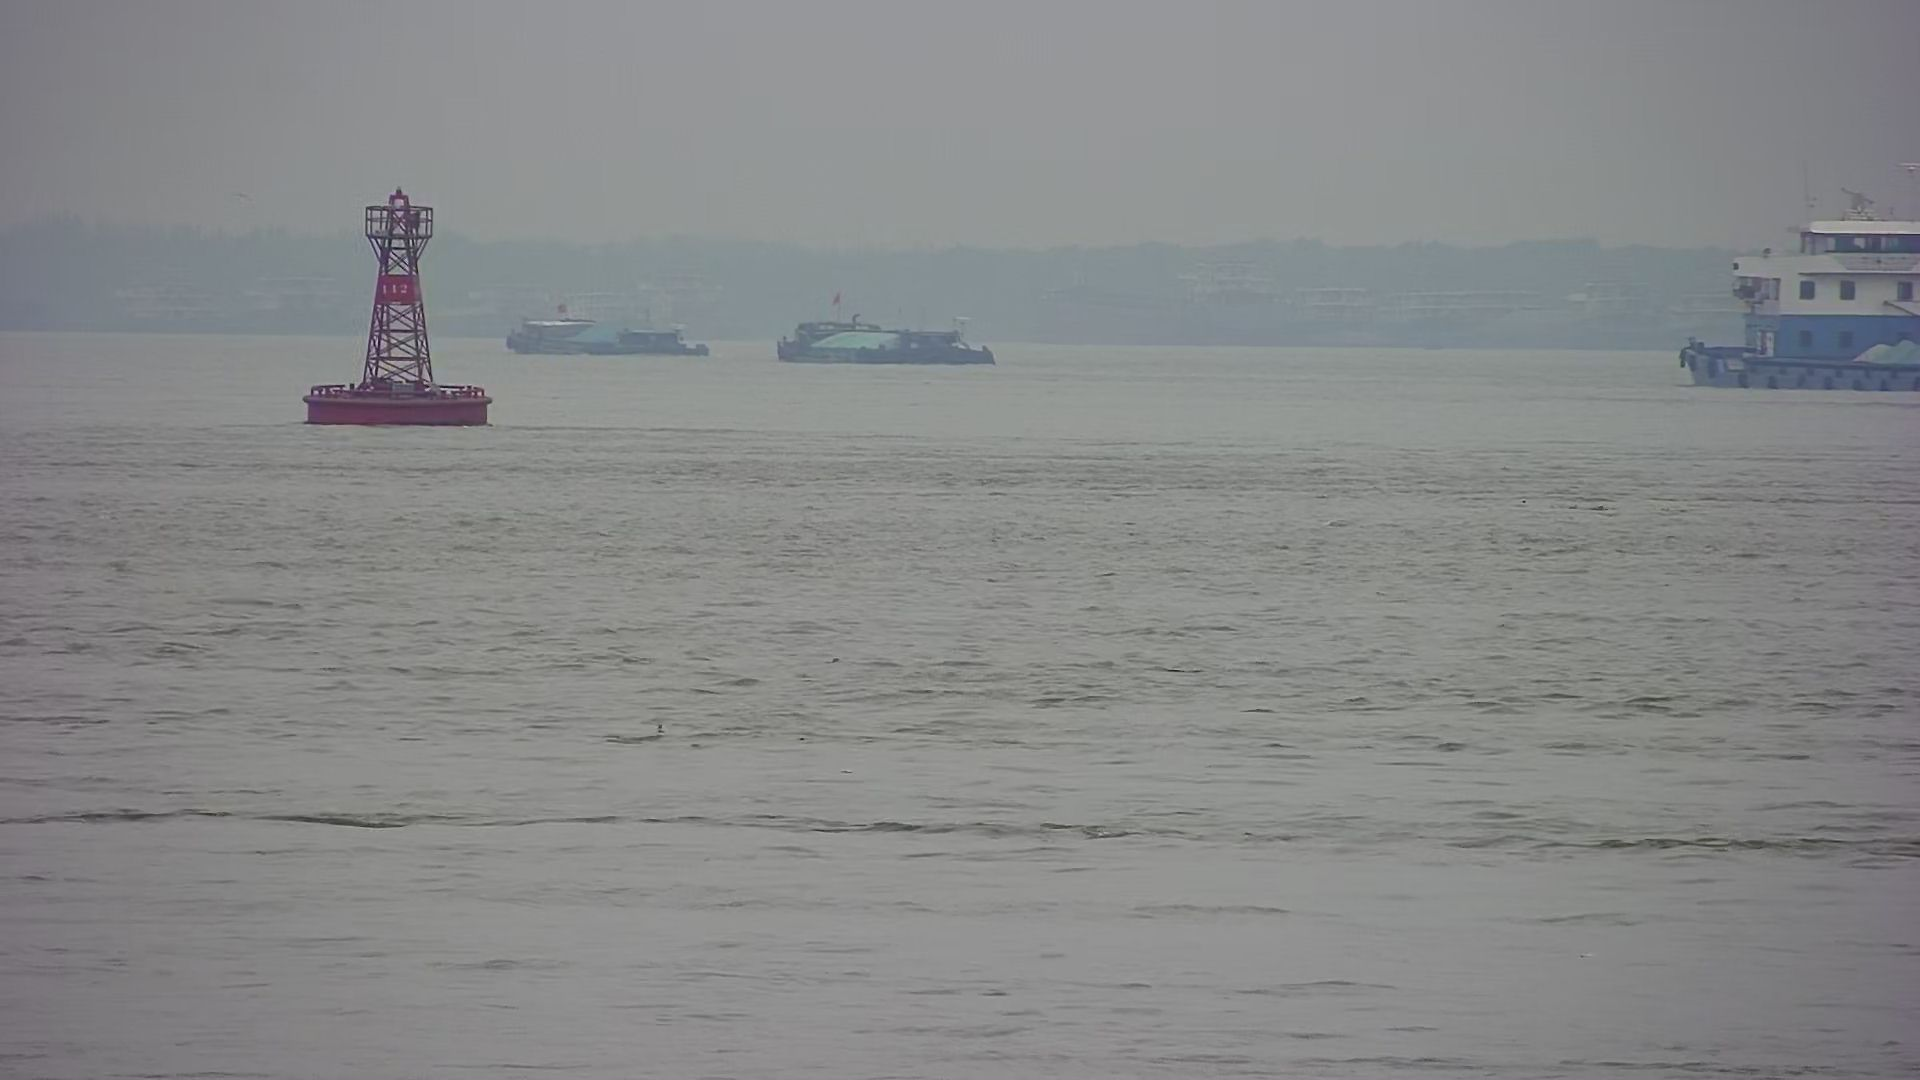platform: (301, 185, 496, 425)
ship: (1672, 202, 1916, 400), (495, 301, 709, 360), (765, 316, 1000, 371)
